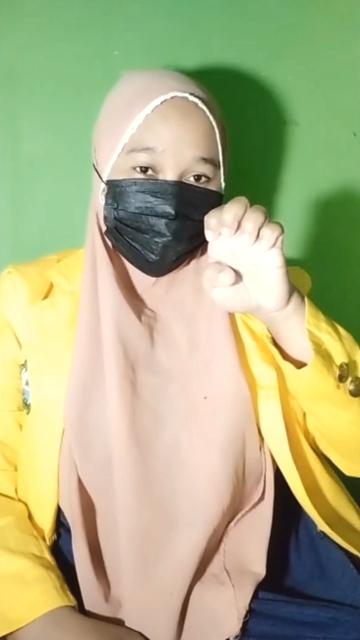E: (196, 192, 296, 322)
